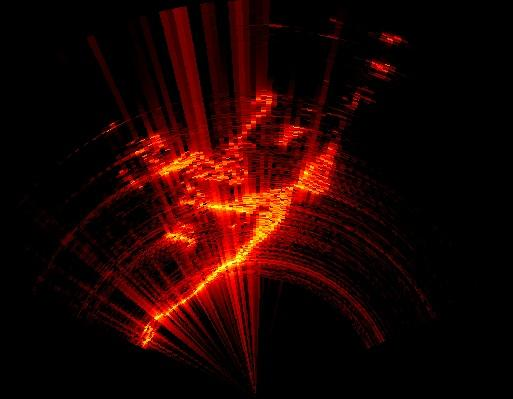shipwreck: (141, 144, 337, 346), (129, 95, 271, 189), (163, 217, 195, 246), (278, 124, 305, 149), (179, 183, 203, 206)
